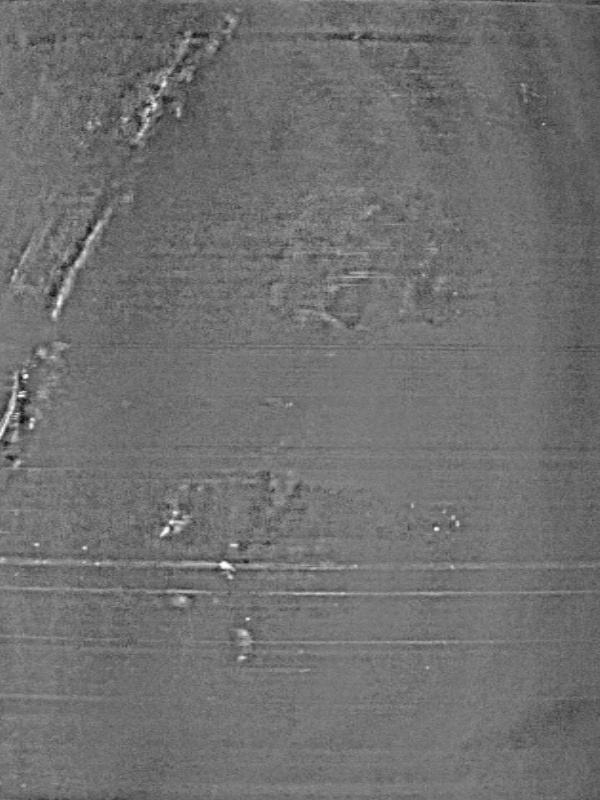splice_vulcanized: (1, 1, 247, 468)
